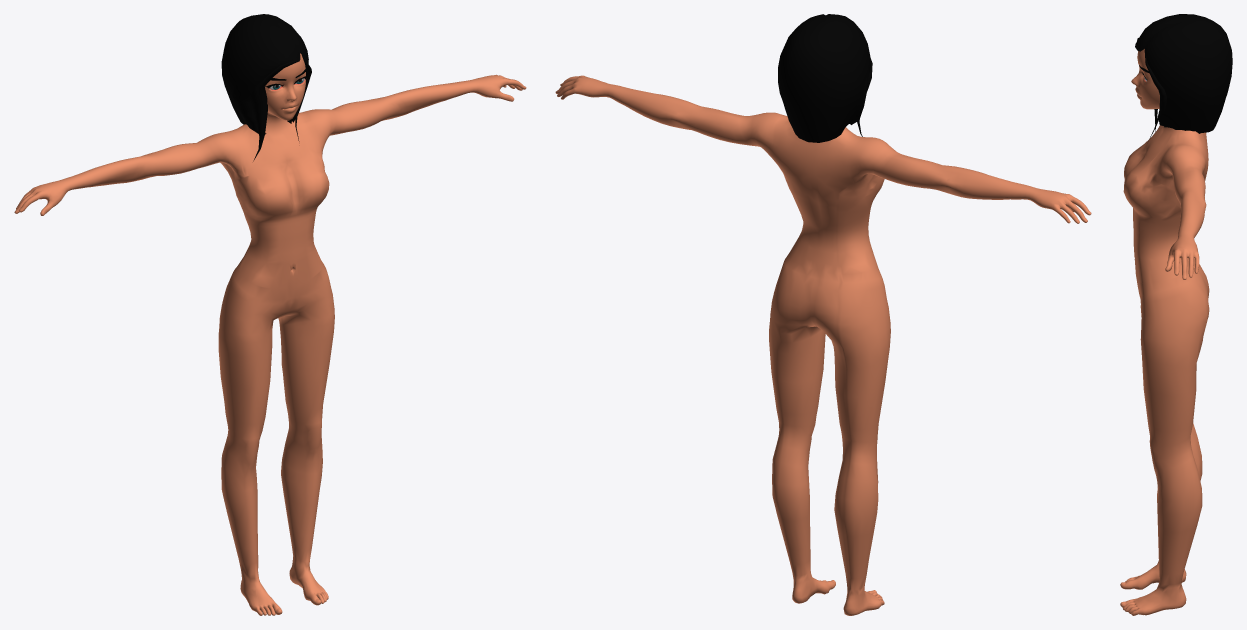
The model's file is Girl_Body.fbx.
3 renders of one model, left to right at view 1: azimuth 30°, elevation 25°; view 2: azimuth 150°, elevation 25°; view 3: azimuth 270°, elevation 25°, orthographic. The views are drawn at different scales.
Parts seen in each view (by area): view 1: Body, Hair; view 2: Body, Hair; view 3: Body, Hair.
Part boxes in pixels (x1,y1,x2,y2): Body: [14, 53, 526, 615]; Hair: [221, 14, 311, 161]; Body: [555, 75, 1091, 615]; Hair: [778, 14, 872, 142]; Body: [1120, 49, 1209, 615]; Hair: [1135, 14, 1232, 141].
Bounding box in the file's own units: 125 × 135 × 23.64.
